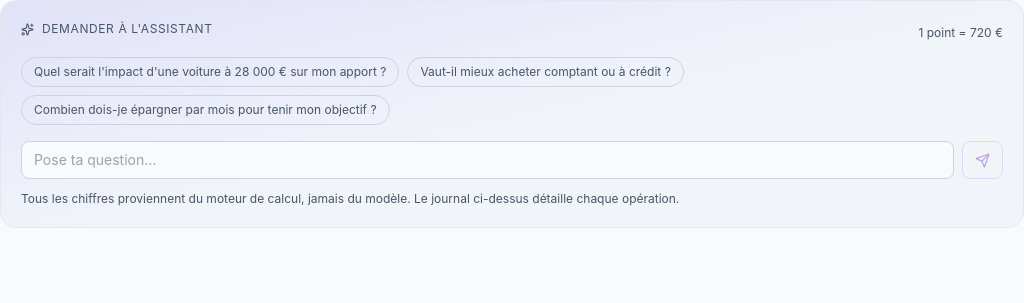
AssistantHorizon › envoie la question avec le contexte anonymisé et affiche la réponse
The image size is (1024, 303).
Type "Et si j'achète une voiture ?" into the field named "Question à l'assistant" at (488, 160), box top-left (21, 141), bottom-right (954, 179)
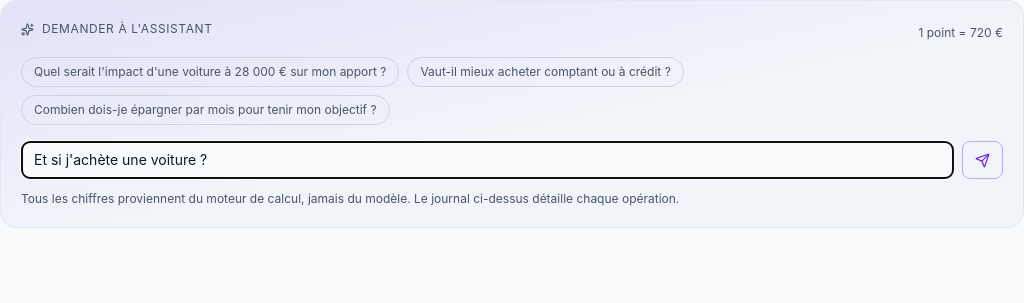
Click the button named "envoyer" at (982, 160), box top-left (962, 141), bottom-right (1003, 179)
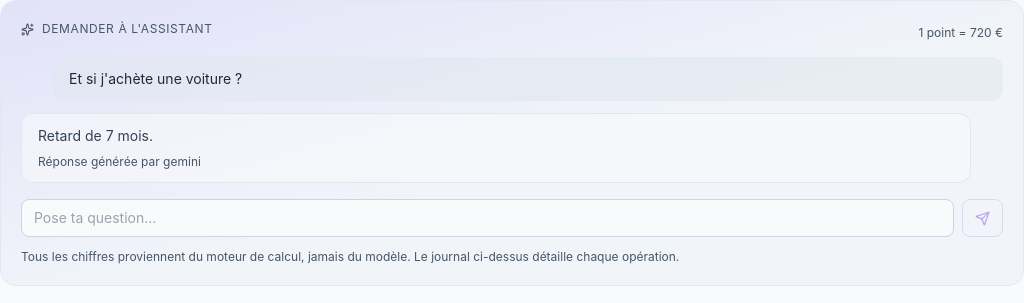
Now the text "Retard de 7 mois." is shown, box top-left (38, 127), bottom-right (153, 144)
